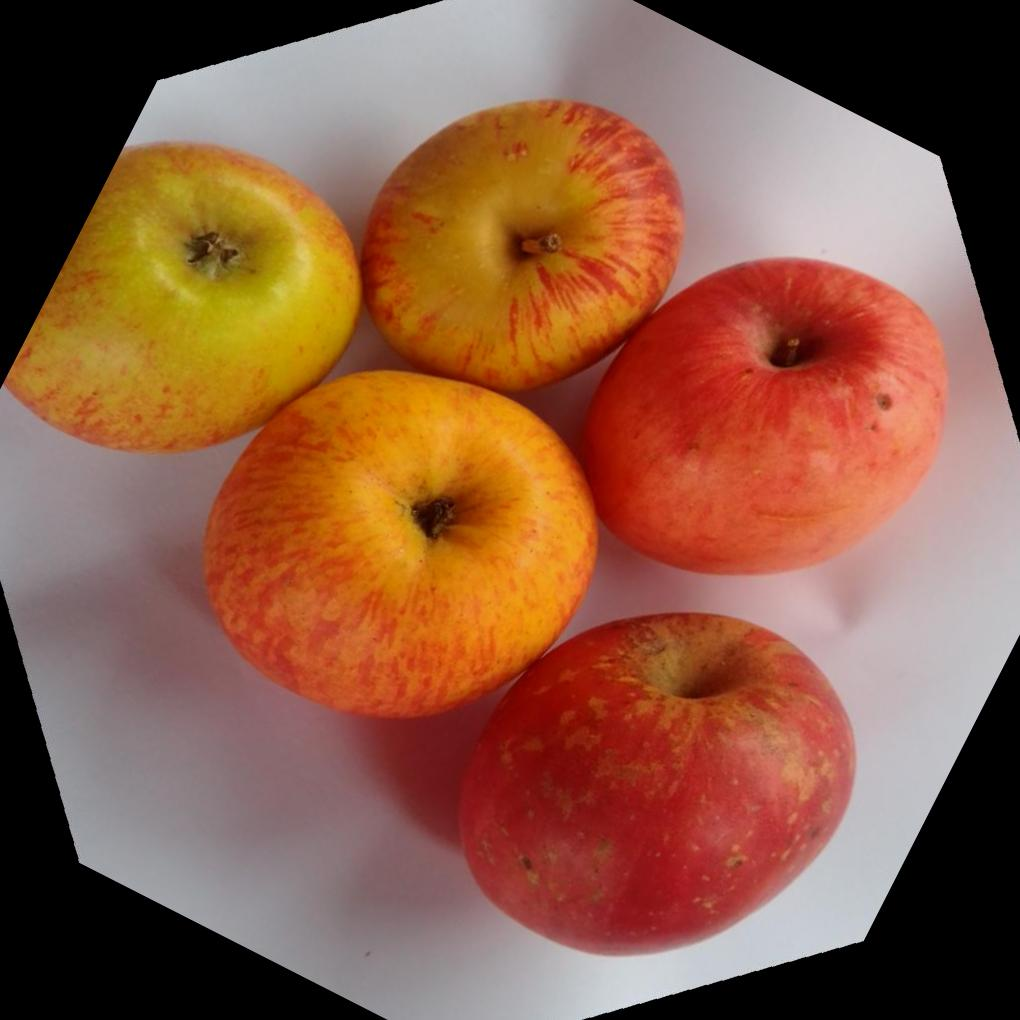FreshGuava: (0, 99, 947, 955)
